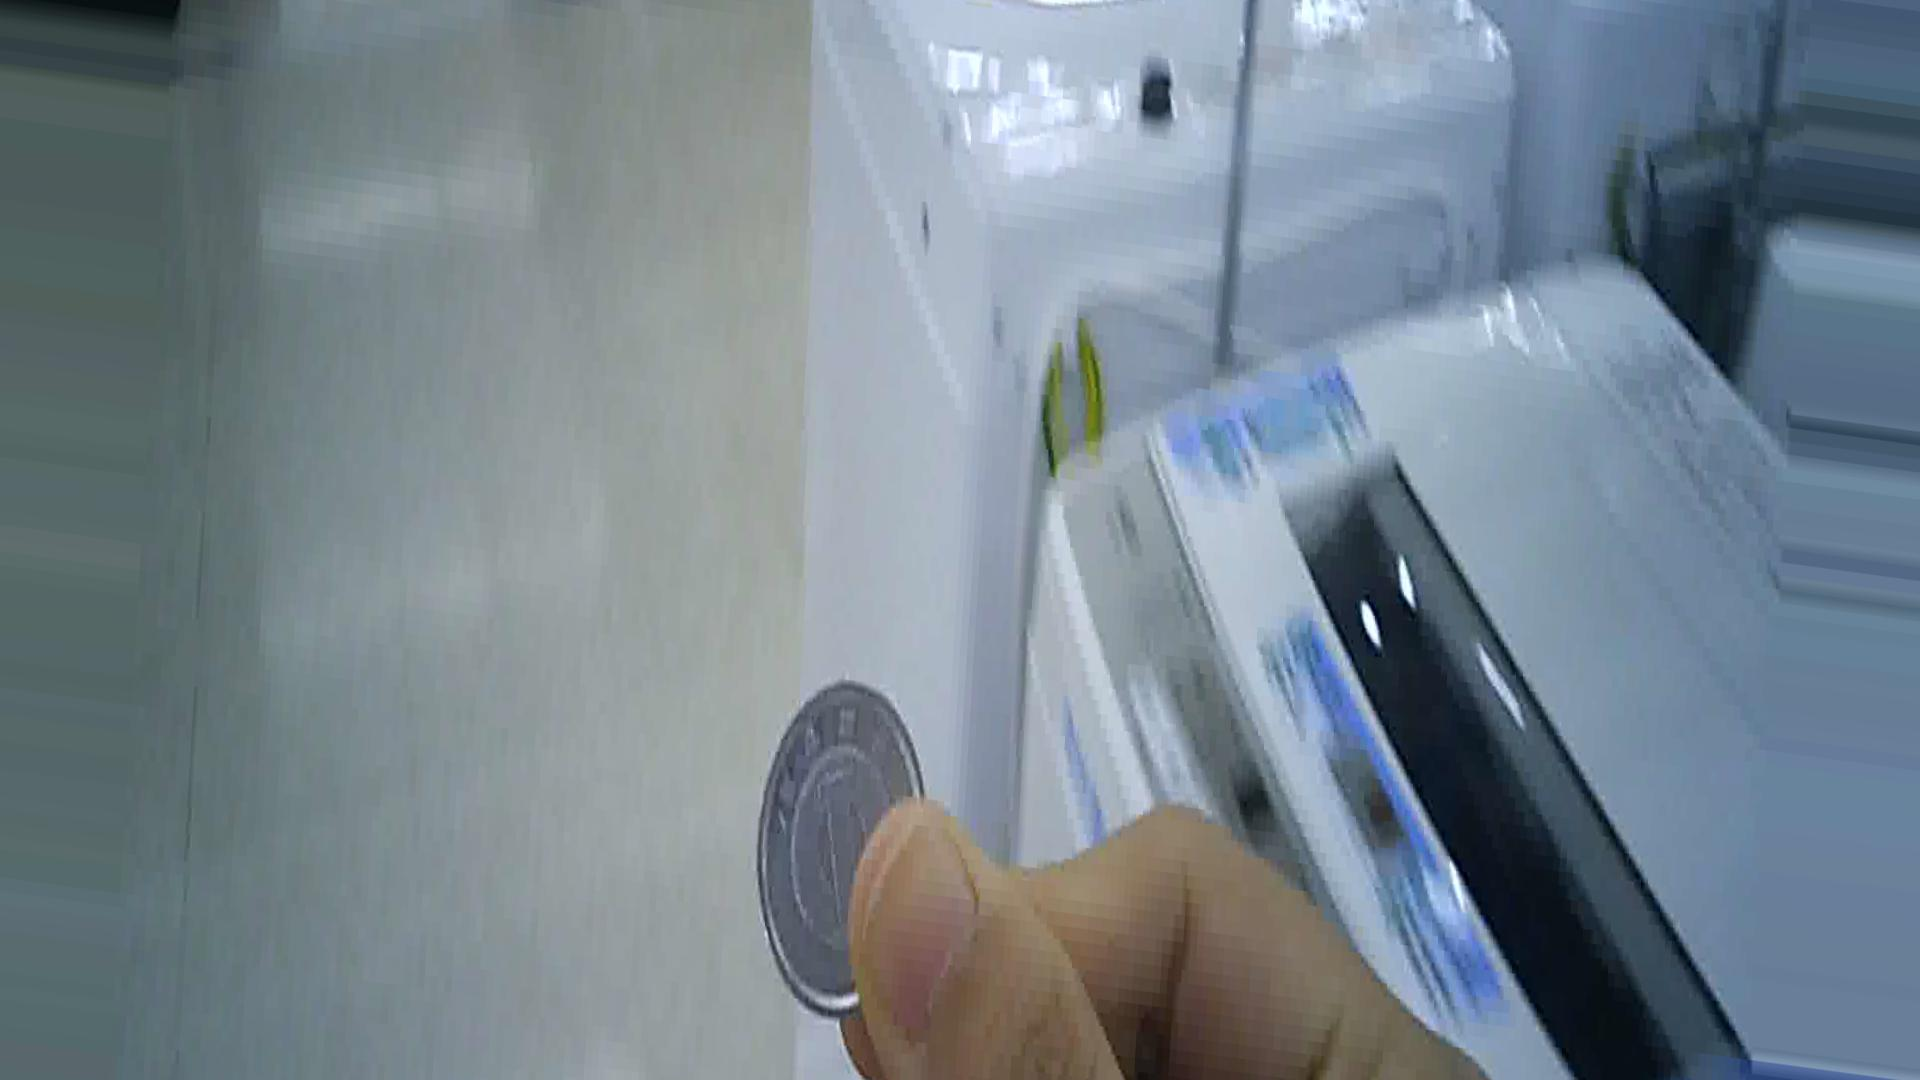1 Yen: (741, 679, 953, 1031)
